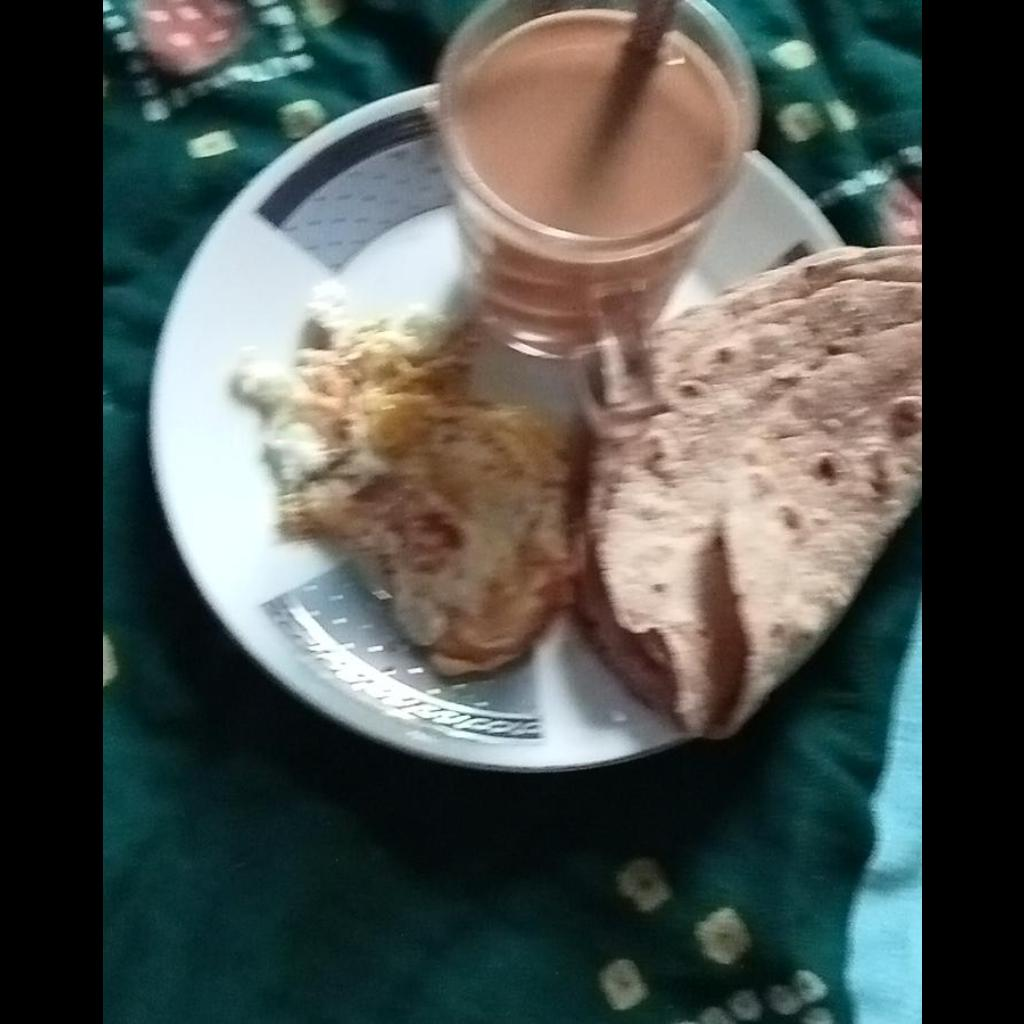cha: (461, 12, 724, 232)
egg-poached: (217, 277, 576, 679)
ruti: (583, 245, 920, 742)
